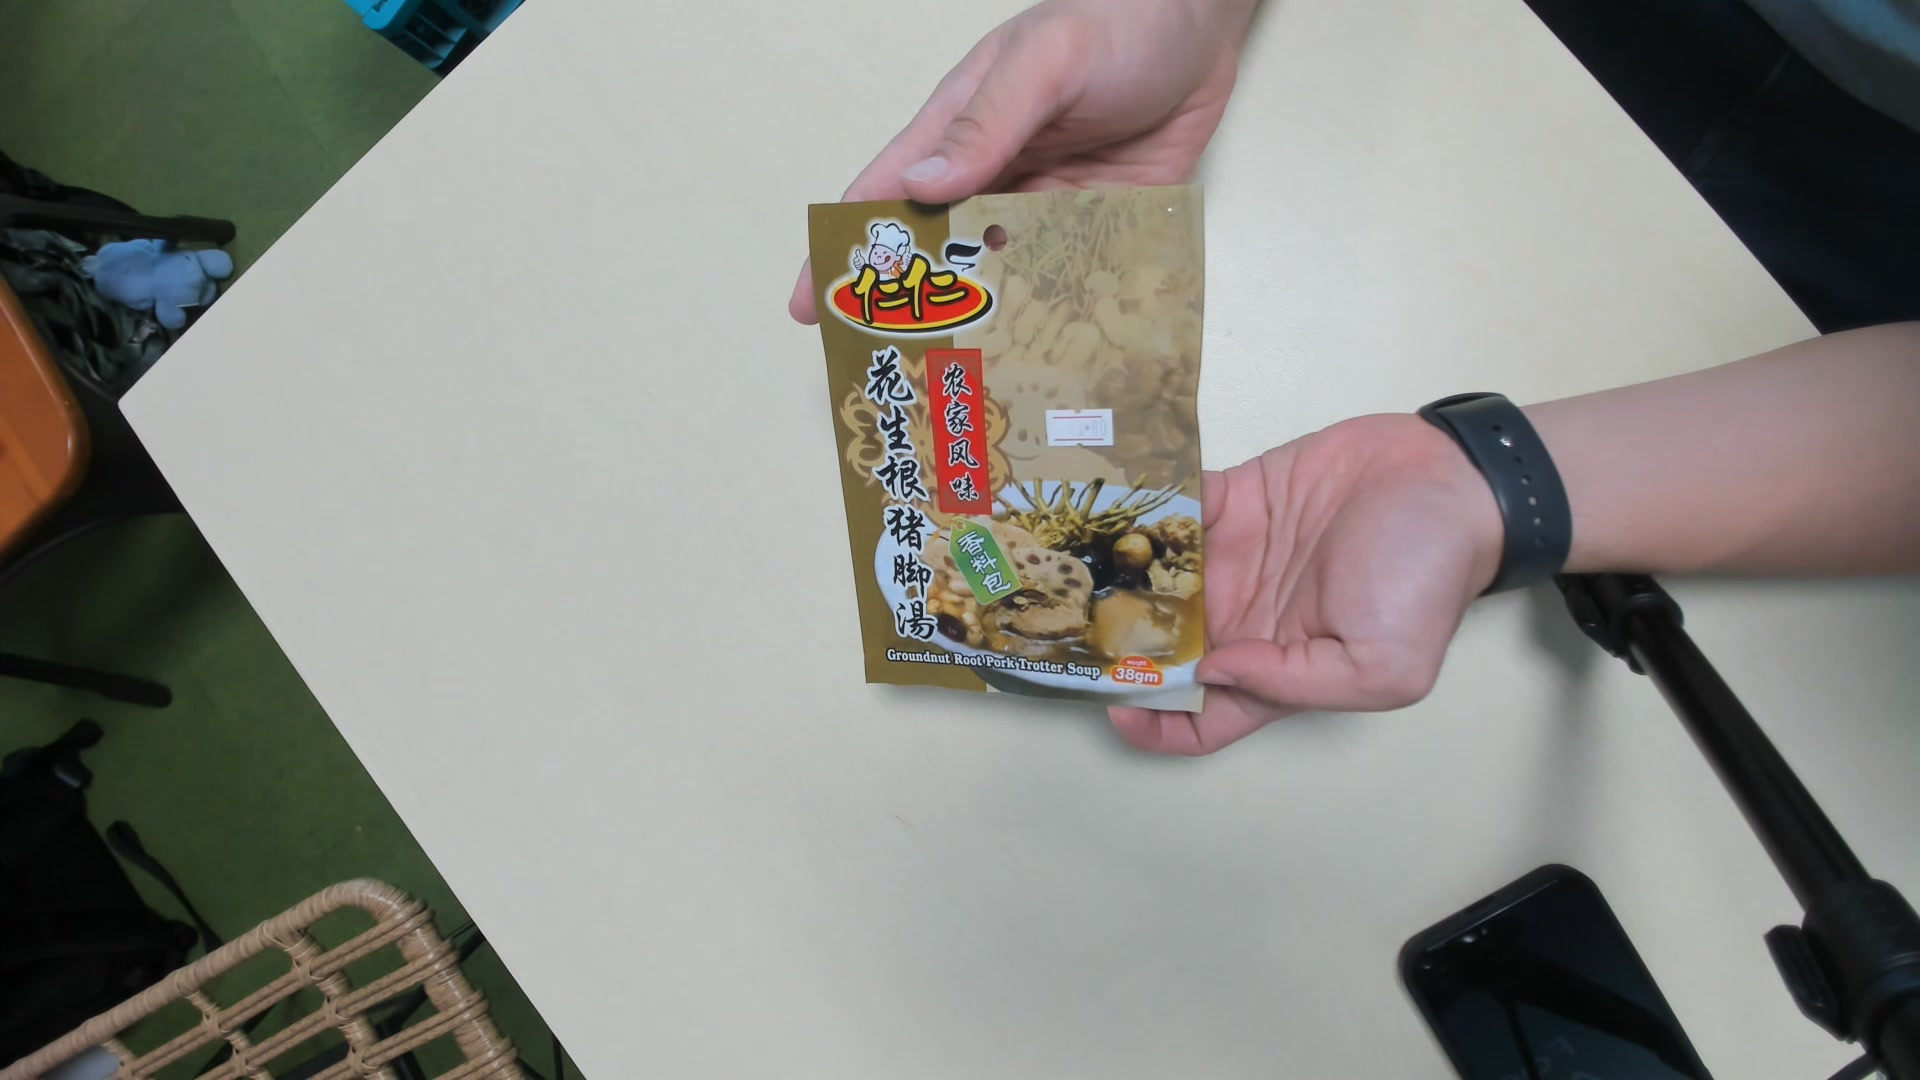OtherSauceDressing_0-99g_NonHalal_NonHealthy: (804, 175, 1209, 715)
